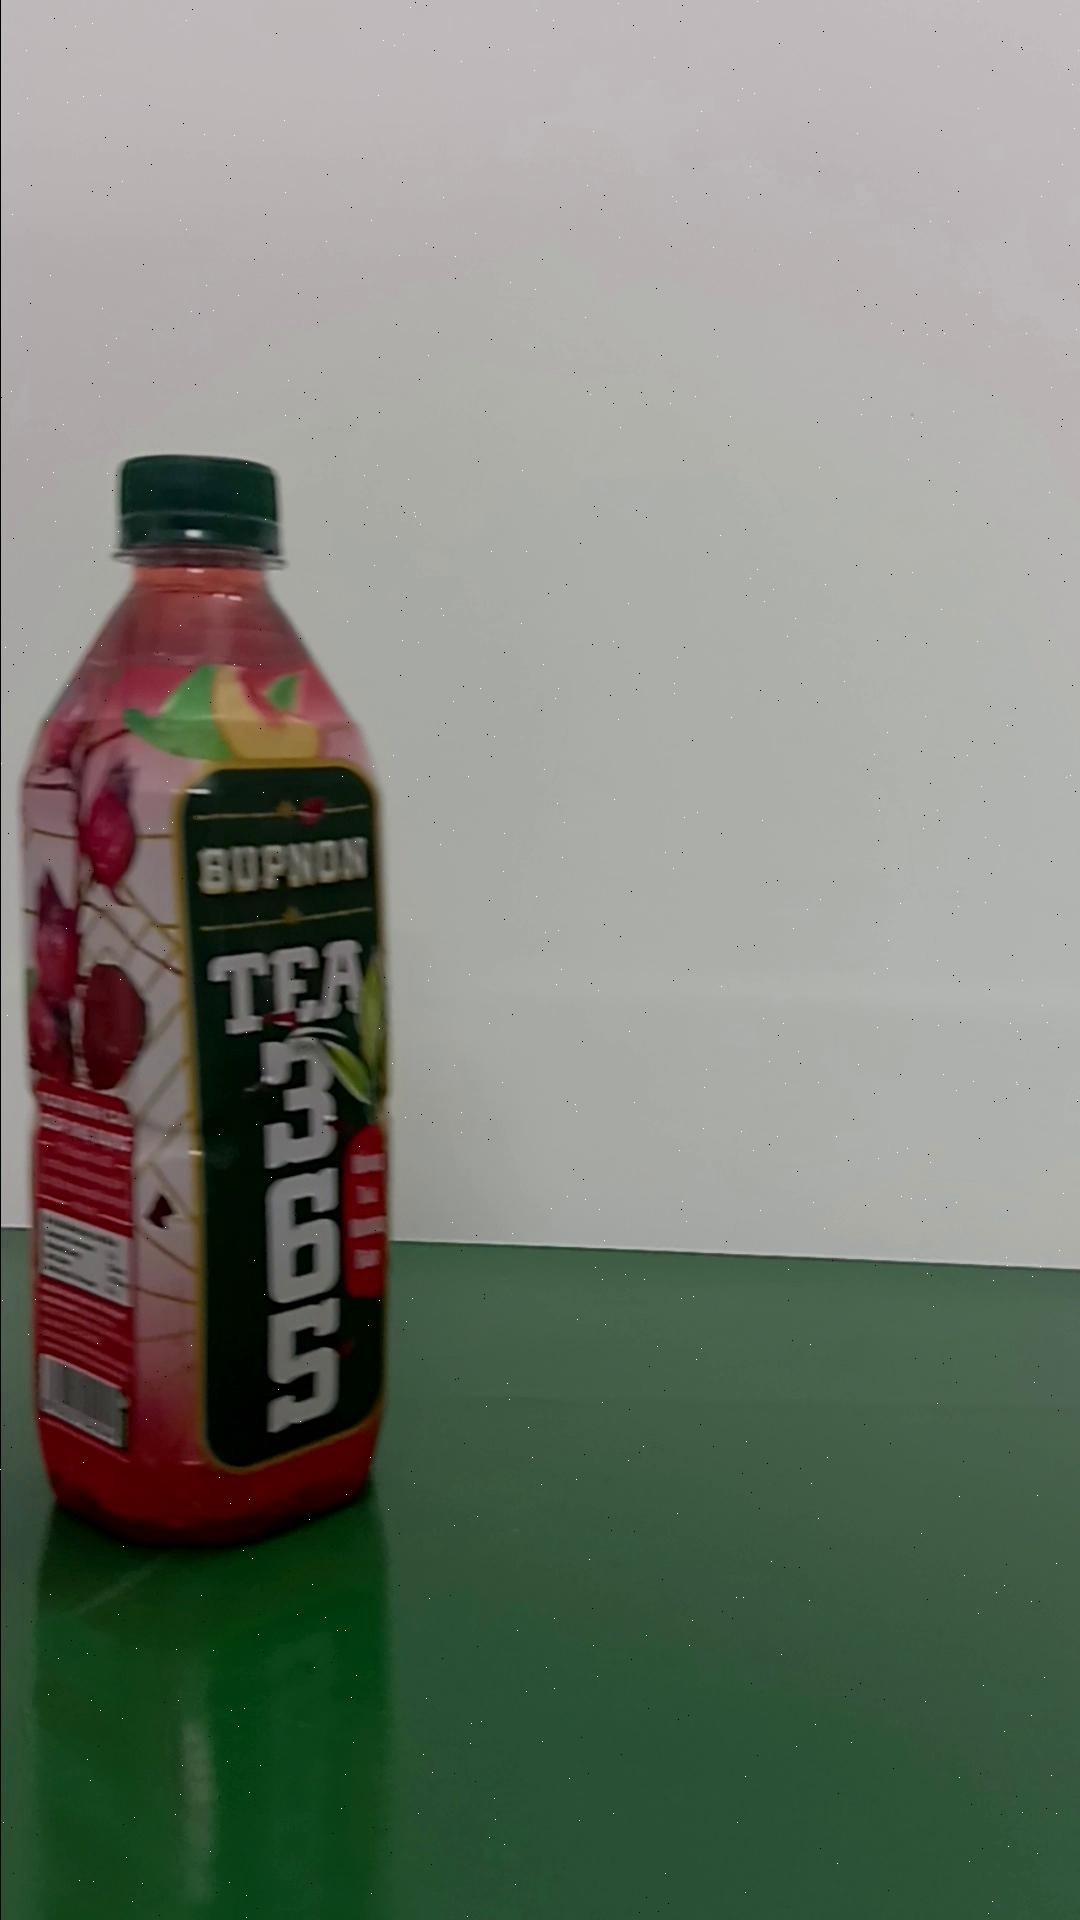loi rach va lap chai: (25, 440, 394, 1556)
